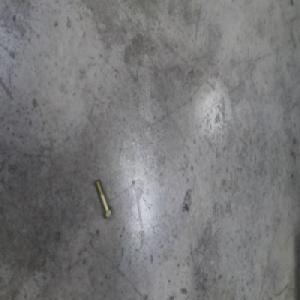Bolt: (93, 177, 113, 220)
